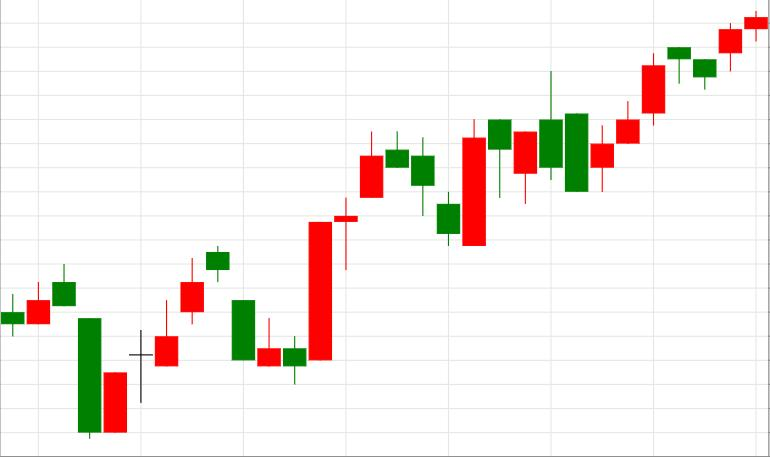evening_star_fall: (104, 246, 254, 433)
